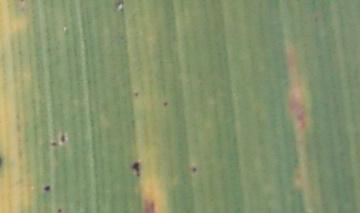tarspot: (130, 159, 141, 177), (113, 1, 125, 14), (59, 131, 66, 145), (41, 183, 50, 192), (189, 165, 198, 173), (132, 89, 140, 97), (49, 140, 57, 148), (1, 154, 4, 171), (162, 100, 168, 107), (55, 207, 61, 213)
